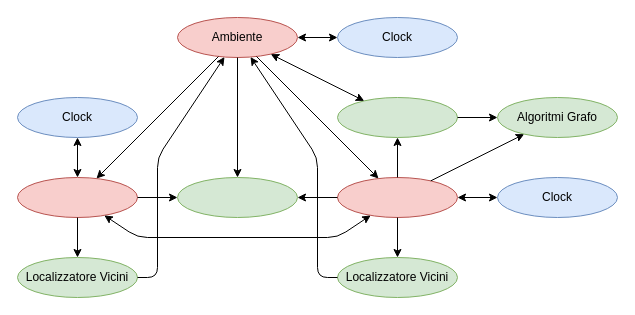
Image size: 635x315. Some labels were removed from this diagram. Here are the shapes that lost their labels. From the top down, the centre of each, then its label:
At pixel 397 117: "Mappa Città".
At pixel 77 197: "Utente".
At pixel 237 197: "Invio messaggi".
At pixel 397 197: "Taxi".
